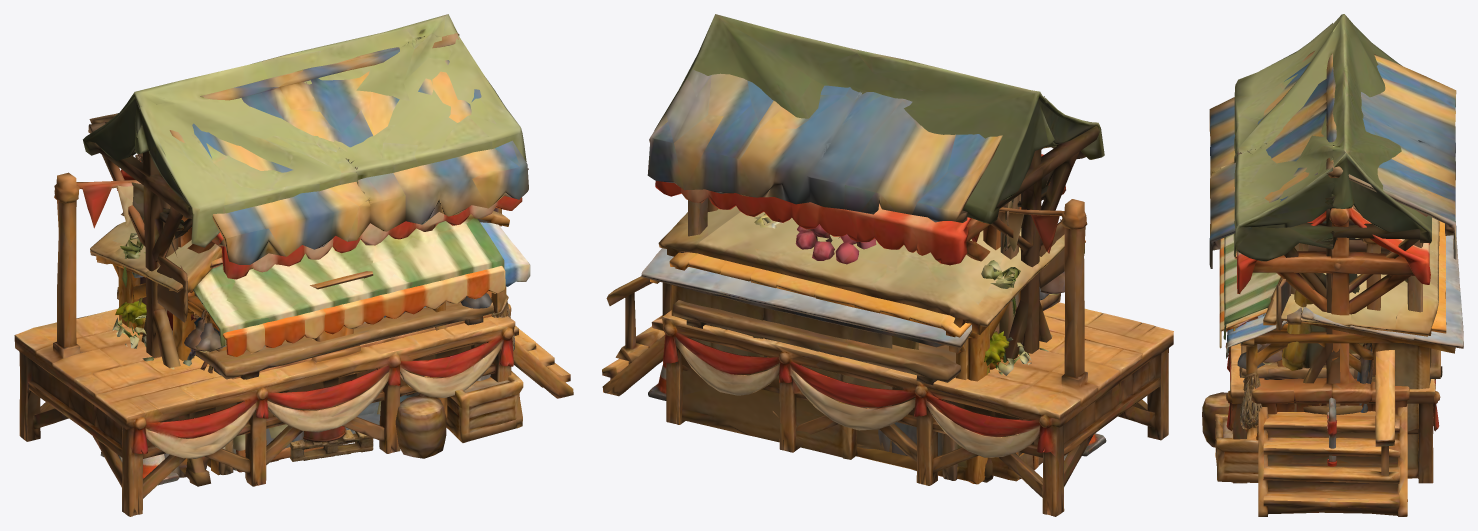
The model's file is pack_market.glb.
The picture shows the model from 3 angles, left to right: view 1: azimuth 30°, elevation 25°; view 2: azimuth 150°, elevation 25°; view 3: azimuth 270°, elevation 25°; orthographic projection. The views are drawn at different scales.
Visible parts, largest first — view 1: stage, stall_clothes, stall_flowers, stall_dairy, stall_fish, stall_tea, stall_fruit, barrels_pallet; view 2: stage, stall_flowers, stall_clothes, stall_dairy, stall_fish, stall_fruit, stall_tea, market_barrier; view 3: stall_clothes, stall_flowers, stage, stall_fish, stall_fruit, stall_dairy, stall_tea, market_barrier.
Boxes of the visible parts, left/top/right/bottom form: stage: left=14, top=172, right=573, bottom=516; stall_clothes: left=83, top=14, right=526, bottom=486; stall_flowers: left=88, top=33, right=528, bottom=474; stall_dairy: left=90, top=211, right=509, bottom=477; stall_fish: left=90, top=222, right=530, bottom=458; stall_tea: left=115, top=266, right=505, bottom=477; stall_fruit: left=117, top=161, right=522, bottom=472; barrels_pallet: left=290, top=426, right=373, bottom=461; stage: left=602, top=198, right=1173, bottom=516; stall_flowers: left=647, top=69, right=1085, bottom=480; stall_clothes: left=654, top=14, right=1104, bottom=482; stall_dairy: left=658, top=206, right=1084, bottom=484; stall_fish: left=641, top=248, right=1048, bottom=480; stall_fruit: left=655, top=154, right=1065, bottom=470; stall_tea: left=669, top=240, right=1085, bottom=374; market_barrier: left=648, top=363, right=1106, bottom=460; stall_clothes: left=1233, top=14, right=1431, bottom=414; stall_flowers: left=1209, top=51, right=1456, bottom=380; stage: left=1225, top=223, right=1440, bottom=516; stall_fish: left=1202, top=235, right=1463, bottom=482; stall_fruit: left=1237, top=207, right=1430, bottom=414; stall_dairy: left=1223, top=217, right=1439, bottom=406; stall_tea: left=1219, top=221, right=1446, bottom=364; market_barrier: left=1327, top=397, right=1336, bottom=466.
Size of the model in its own units: 5 by 3.72 by 2.67.
Materials: 12 (12 with a texture image).
